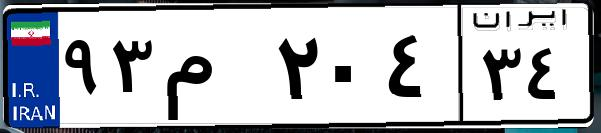0: (330, 28, 385, 110)
2: (270, 28, 330, 110)
3: (475, 38, 525, 113), (110, 28, 158, 98)
4: (385, 28, 445, 110), (525, 38, 570, 115)
9: (57, 26, 110, 100)
م: (158, 20, 270, 120)
